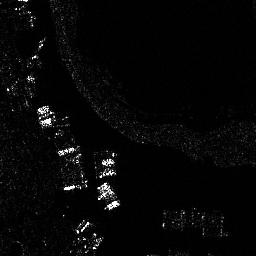ship: (57, 143, 82, 157)
